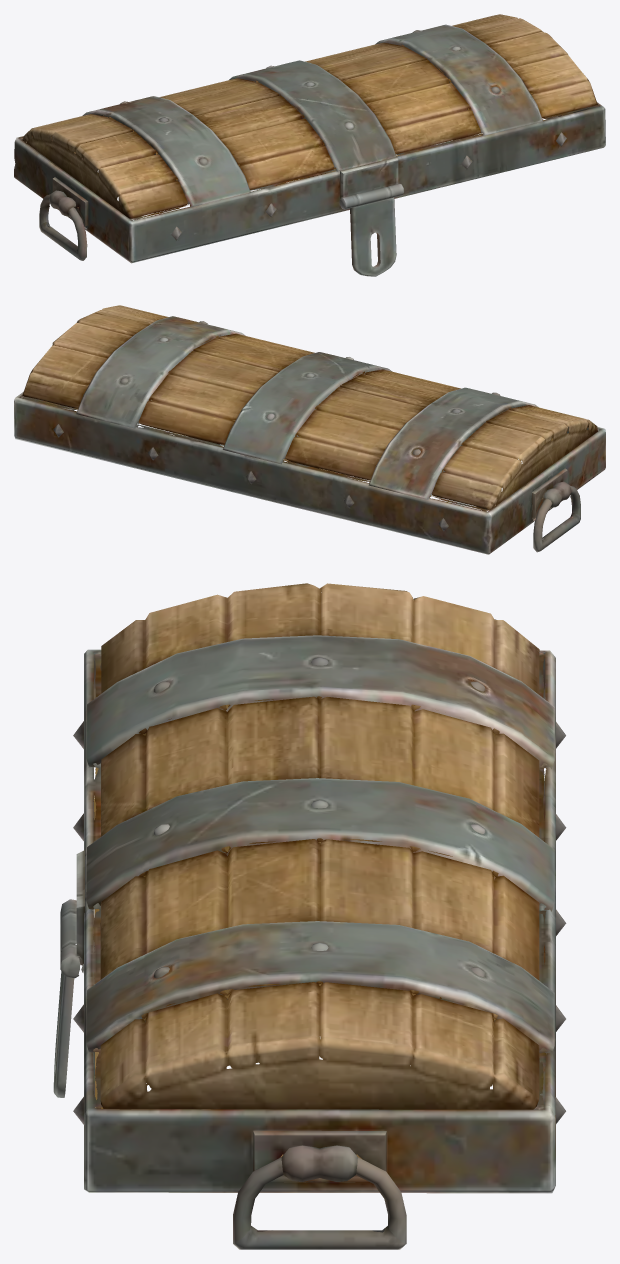
The picture shows the model from 3 angles, top to bottom: view 1: azimuth 30°, elevation 25°; view 2: azimuth 150°, elevation 25°; view 3: azimuth 270°, elevation 25°; orthographic projection. The views are drawn at different scales.
Visible parts, largest first — view 1: SM_Loot_Chest_Lid_01_LOD0; view 2: SM_Loot_Chest_Lid_01_LOD0; view 3: SM_Loot_Chest_Lid_01_LOD0.
Boxes of the visible parts, x1,y1,x2,y2 form: SM_Loot_Chest_Lid_01_LOD0: (14,14,605,276); SM_Loot_Chest_Lid_01_LOD0: (14,305,605,554); SM_Loot_Chest_Lid_01_LOD0: (53,583,566,1249).
Size of the model in its own units: 1.85 by 0.5076 by 0.8049.
Materials: 1 (1 with a texture image).
